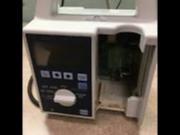plumxl1: (25, 2, 156, 121)
